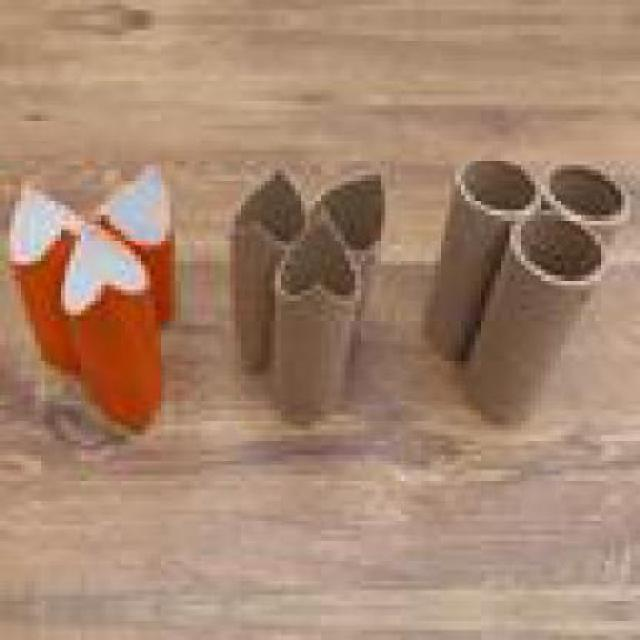CARDBOARD: (463, 212, 603, 428), (426, 158, 543, 363), (70, 220, 170, 425), (280, 194, 365, 414), (230, 166, 310, 374), (15, 170, 90, 375), (105, 155, 180, 330), (315, 160, 390, 320), (545, 161, 634, 231)
